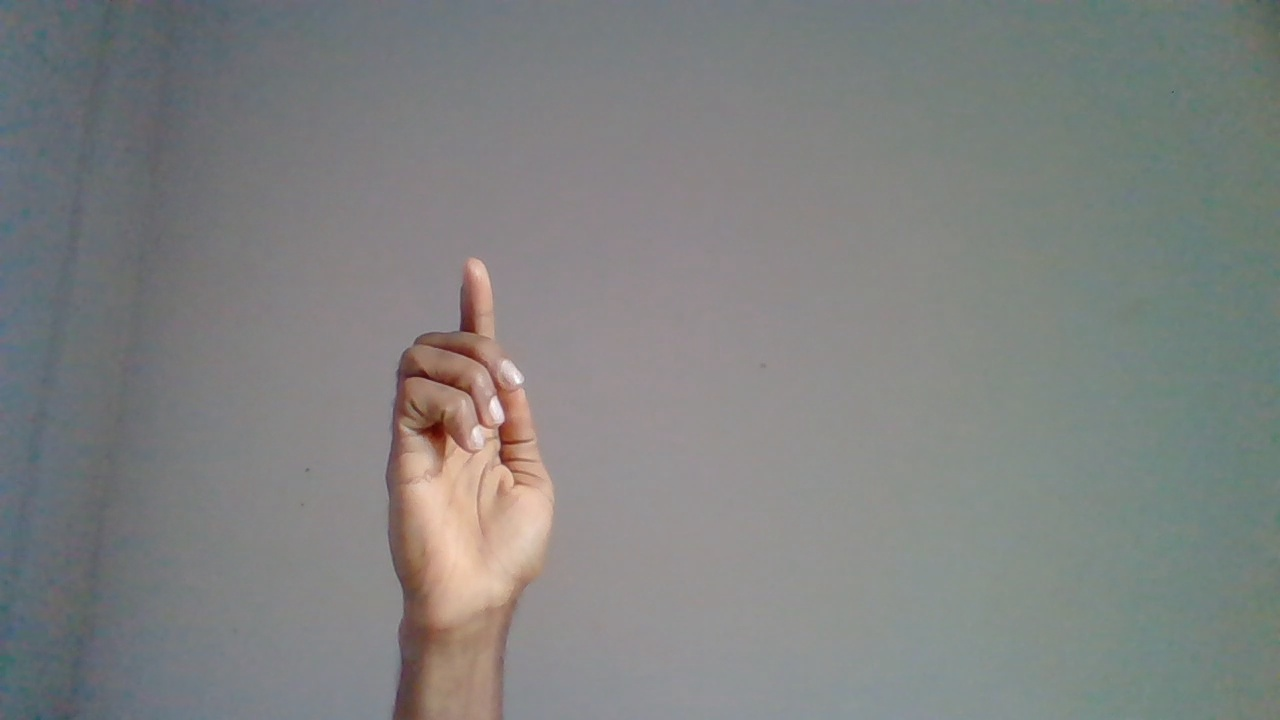qe: (379, 258, 564, 674)
